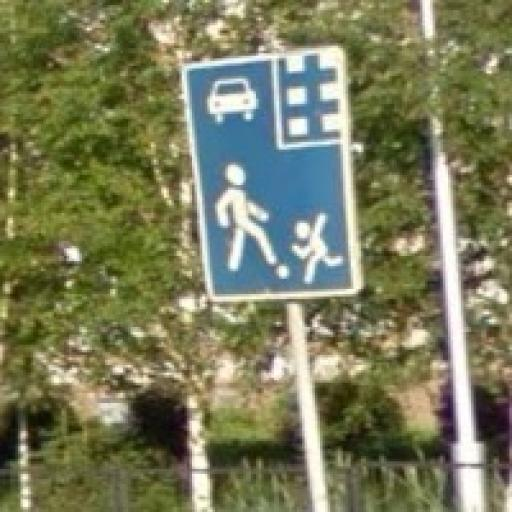traffic_sign: (180, 49, 367, 305)
